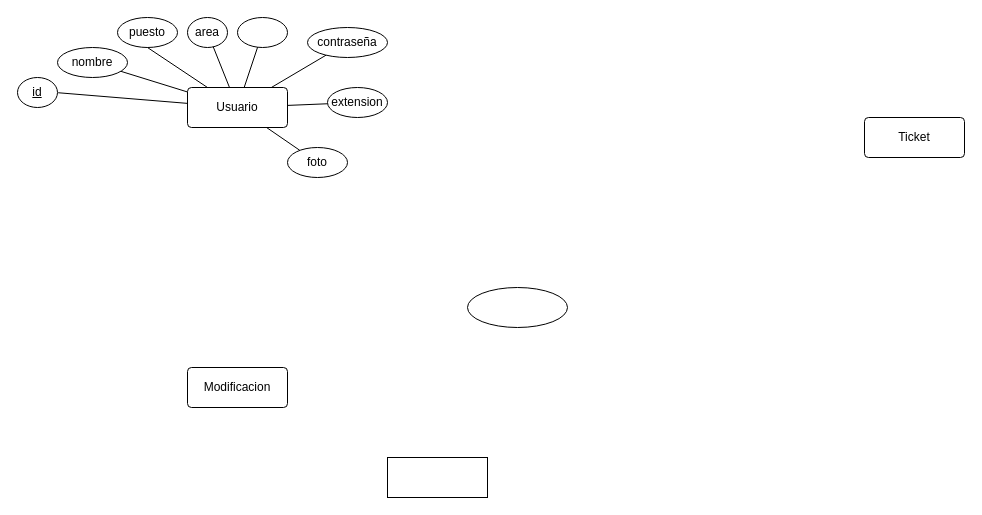
Some shapes in this 982 by 515 pixel diagram are drawn without their labels. Each missing label, with the centre of its shape:
"correo" belongs at point (262, 32).
"Entity" belongs at point (437, 477).
"rol" belongs at point (517, 307).
